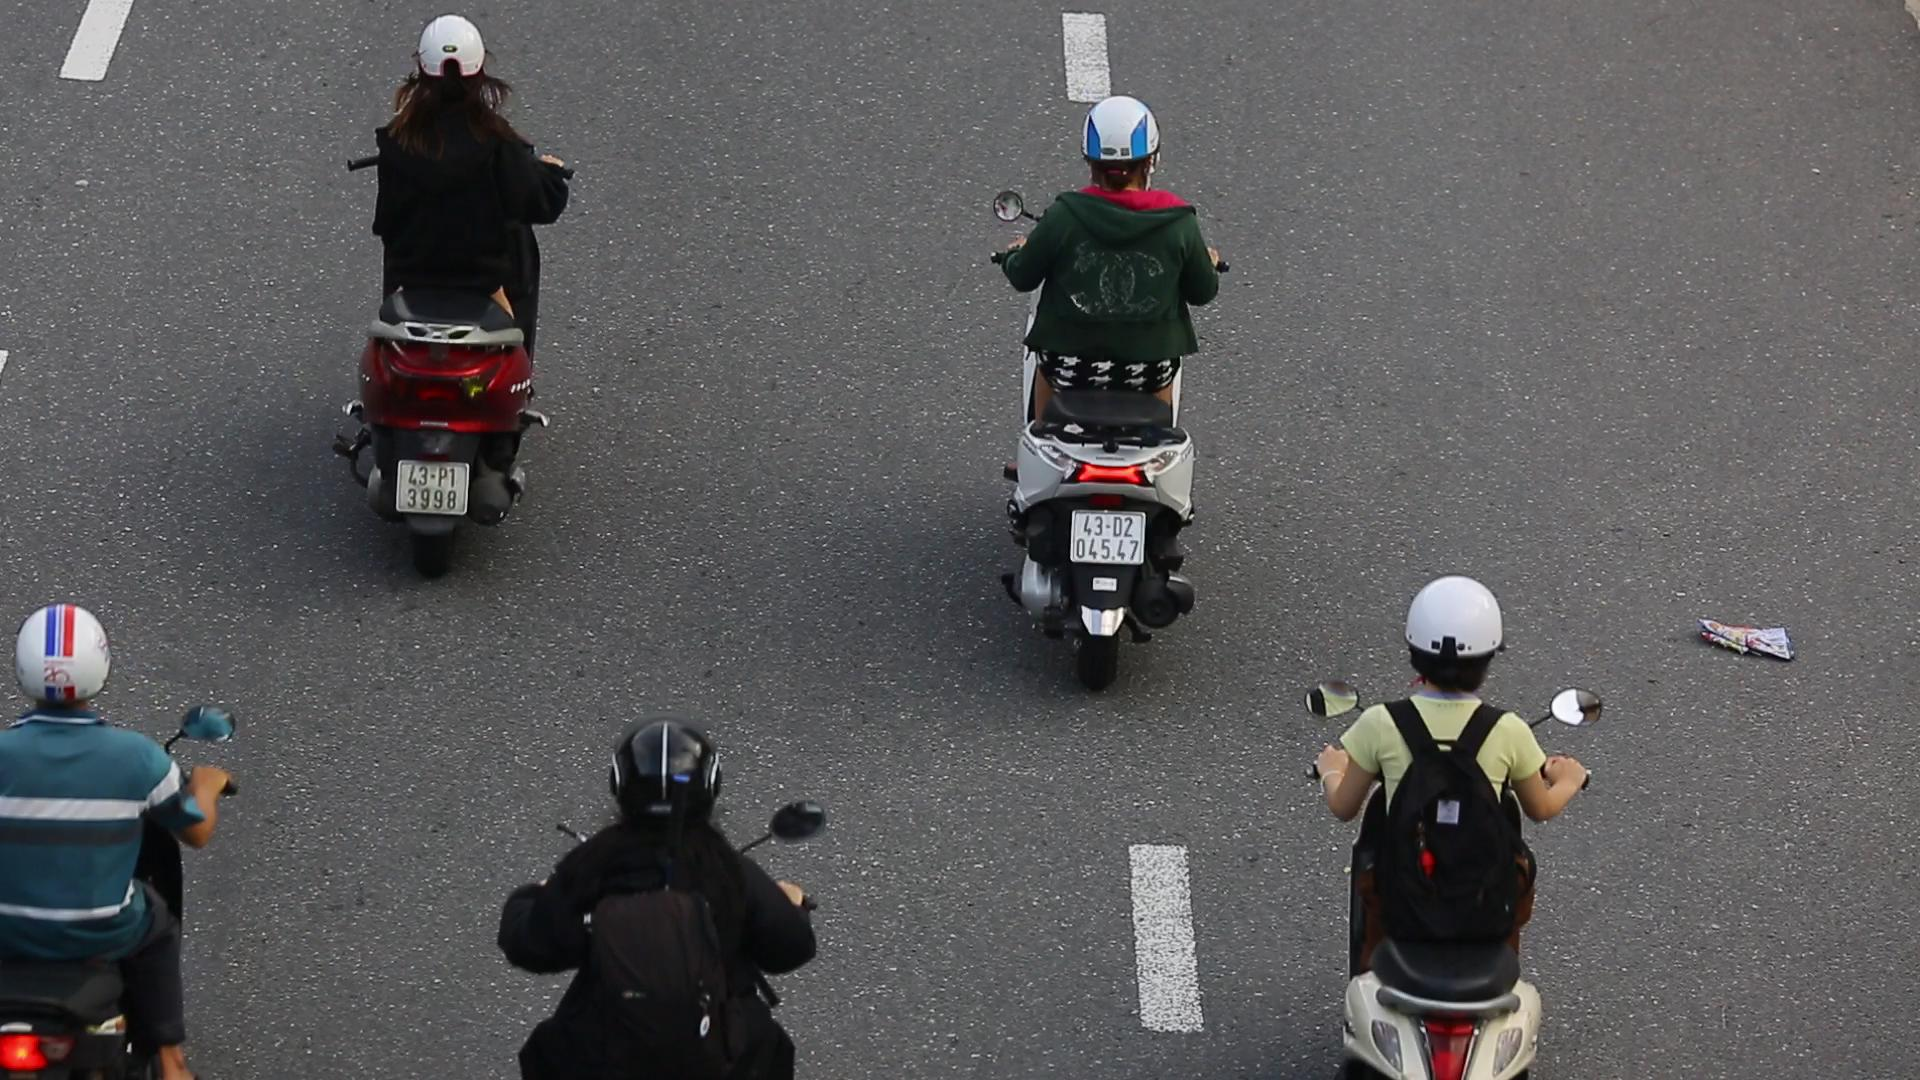motobike: (976, 92, 1236, 699), (331, 7, 580, 591)
